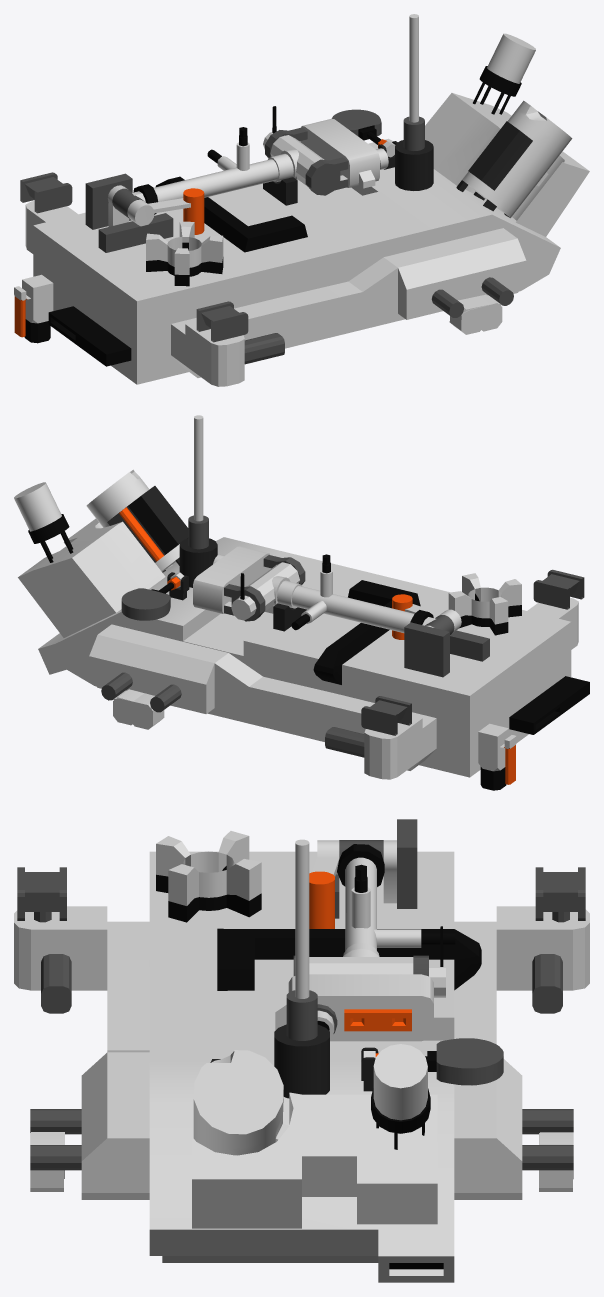
The model's file is baseRover.obj.
3 views of the same model, one above another, from view 1: azimuth 30°, elevation 25°; view 2: azimuth 150°, elevation 25°; view 3: azimuth 270°, elevation 25° (orthographic). The views are drawn at different scales.
Visible parts, largest first — view 1: base_SpacialRoverExploreralumWhite, base_SpacialRoverExploreralumGray, base_SpacialRoverExploreralumBlack, base_SpacialRoverExploreralumGrayDeep, base_SpacialRoverExploreralumOrange; view 2: base_SpacialRoverExploreralumWhite, base_SpacialRoverExploreralumGray, base_SpacialRoverExploreralumBlack, base_SpacialRoverExploreralumGrayDeep, base_SpacialRoverExploreralumOrange; view 3: base_SpacialRoverExploreralumWhite, base_SpacialRoverExploreralumGray, base_SpacialRoverExploreralumBlack, base_SpacialRoverExploreralumGrayDeep, base_SpacialRoverExploreralumOrange.
Part boxes in pixels (left/top/right/bottom): base_SpacialRoverExploreralumWhite: left=14, top=14, right=589, bottom=386; base_SpacialRoverExploreralumGray: left=20, top=109, right=513, bottom=364; base_SpacialRoverExploreralumBlack: left=24, top=66, right=521, bottom=366; base_SpacialRoverExploreralumGrayDeep: left=263, top=121, right=532, bottom=217; base_SpacialRoverExploreralumOrange: left=14, top=139, right=386, bottom=337; base_SpacialRoverExploreralumWhite: left=14, top=415, right=578, bottom=779; base_SpacialRoverExploreralumGray: left=101, top=515, right=584, bottom=757; base_SpacialRoverExploreralumBlack: left=28, top=514, right=589, bottom=790; base_SpacialRoverExploreralumGrayDeep: left=107, top=486, right=306, bottom=631; base_SpacialRoverExploreralumOrange: left=119, top=507, right=515, bottom=784; base_SpacialRoverExploreralumWhite: left=14, top=831, right=589, bottom=1282; base_SpacialRoverExploreralumGray: left=17, top=819, right=585, bottom=1262; base_SpacialRoverExploreralumBlack: left=156, top=844, right=481, bottom=1269; base_SpacialRoverExploreralumGrayDeep: left=210, top=1024, right=378, bottom=1098; base_SpacialRoverExploreralumOrange: left=309, top=871, right=411, bottom=1056.
Bounding box in the file's own units: 10.27 × 5.1 × 6.8.
